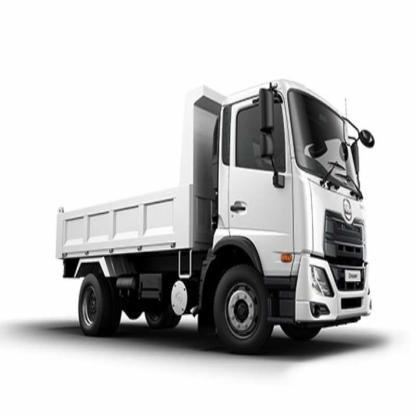dump_truck: (50, 74, 377, 356)
